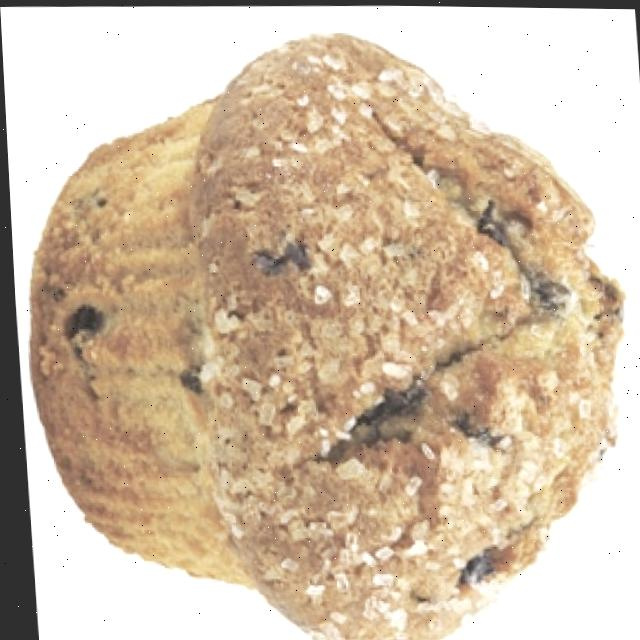炸货点心: (5, 24, 640, 640)
面包点心: (5, 24, 640, 640)
